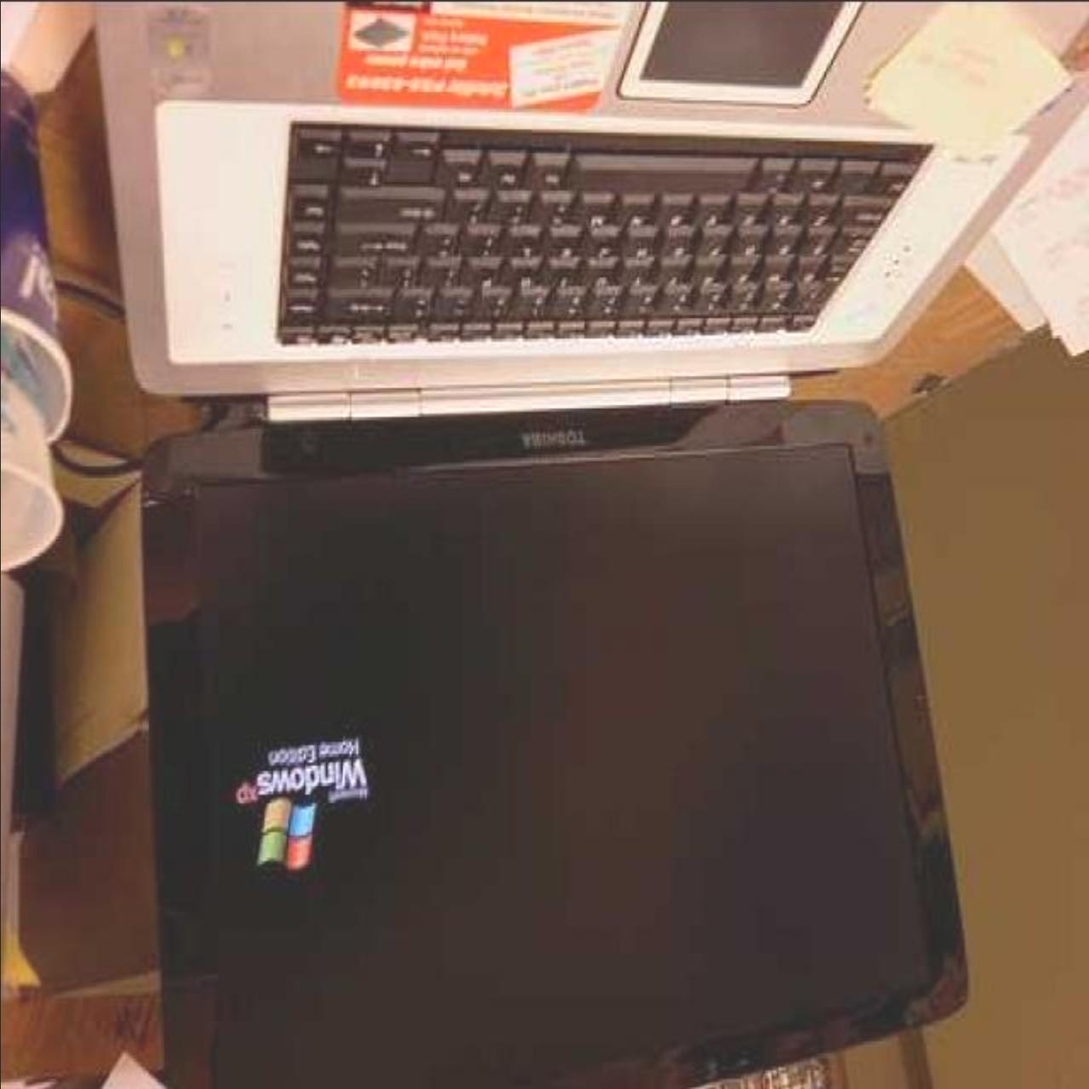laptop: (82, 0, 963, 1089)
